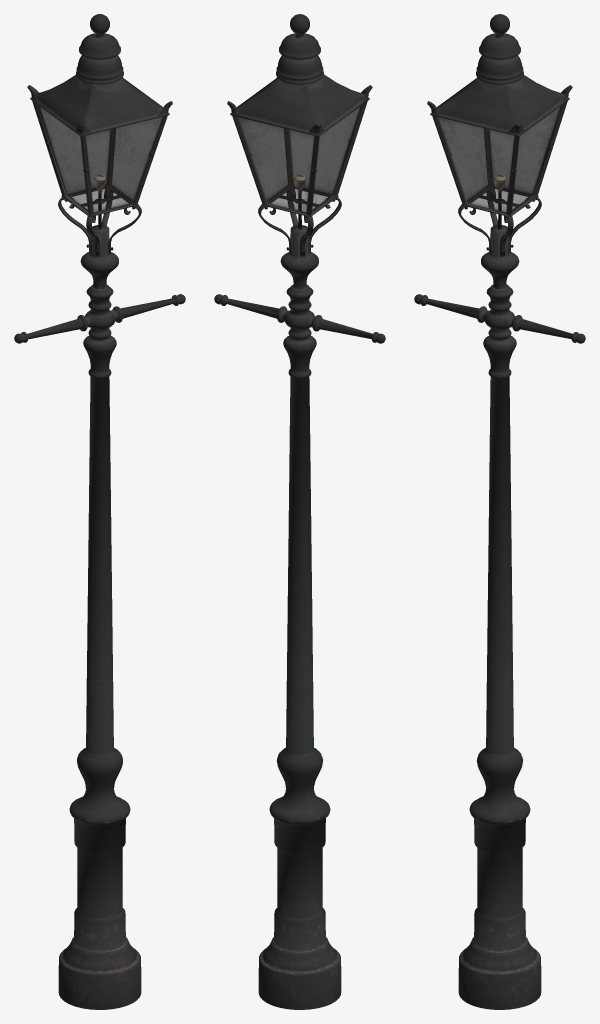
File: lantern_post.glb
The picture shows the model from 3 angles, left to right: view 1: azimuth 30°, elevation 25°; view 2: azimuth 150°, elevation 25°; view 3: azimuth 330°, elevation 25°; orthographic projection.
Visible parts, largest first — view 1: lantern_post; view 2: lantern_post; view 3: lantern_post.
Part boxes in pixels (<box>): lantern_post: <box>14,14,185,1009</box>; lantern_post: <box>214,14,385,1009</box>; lantern_post: <box>414,14,585,1009</box>.
Bounding box in the file's own units: 0.5458 × 3 × 0.2996.
2 materials, 2 textured.
